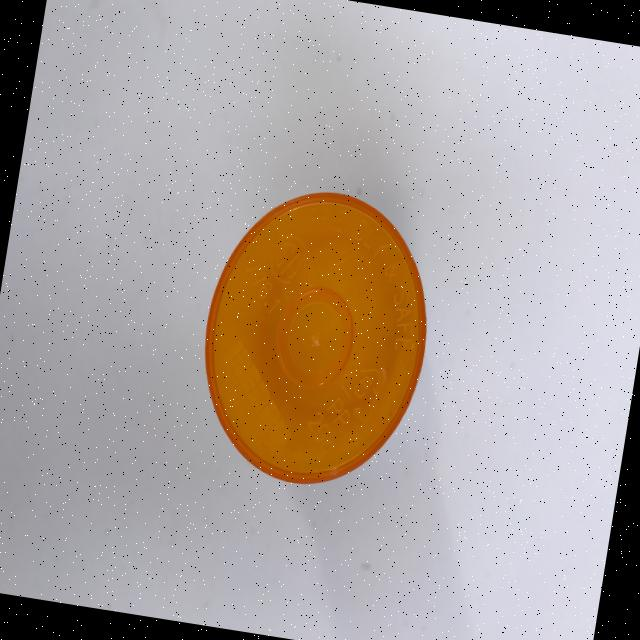plastic: (184, 174, 448, 500)
